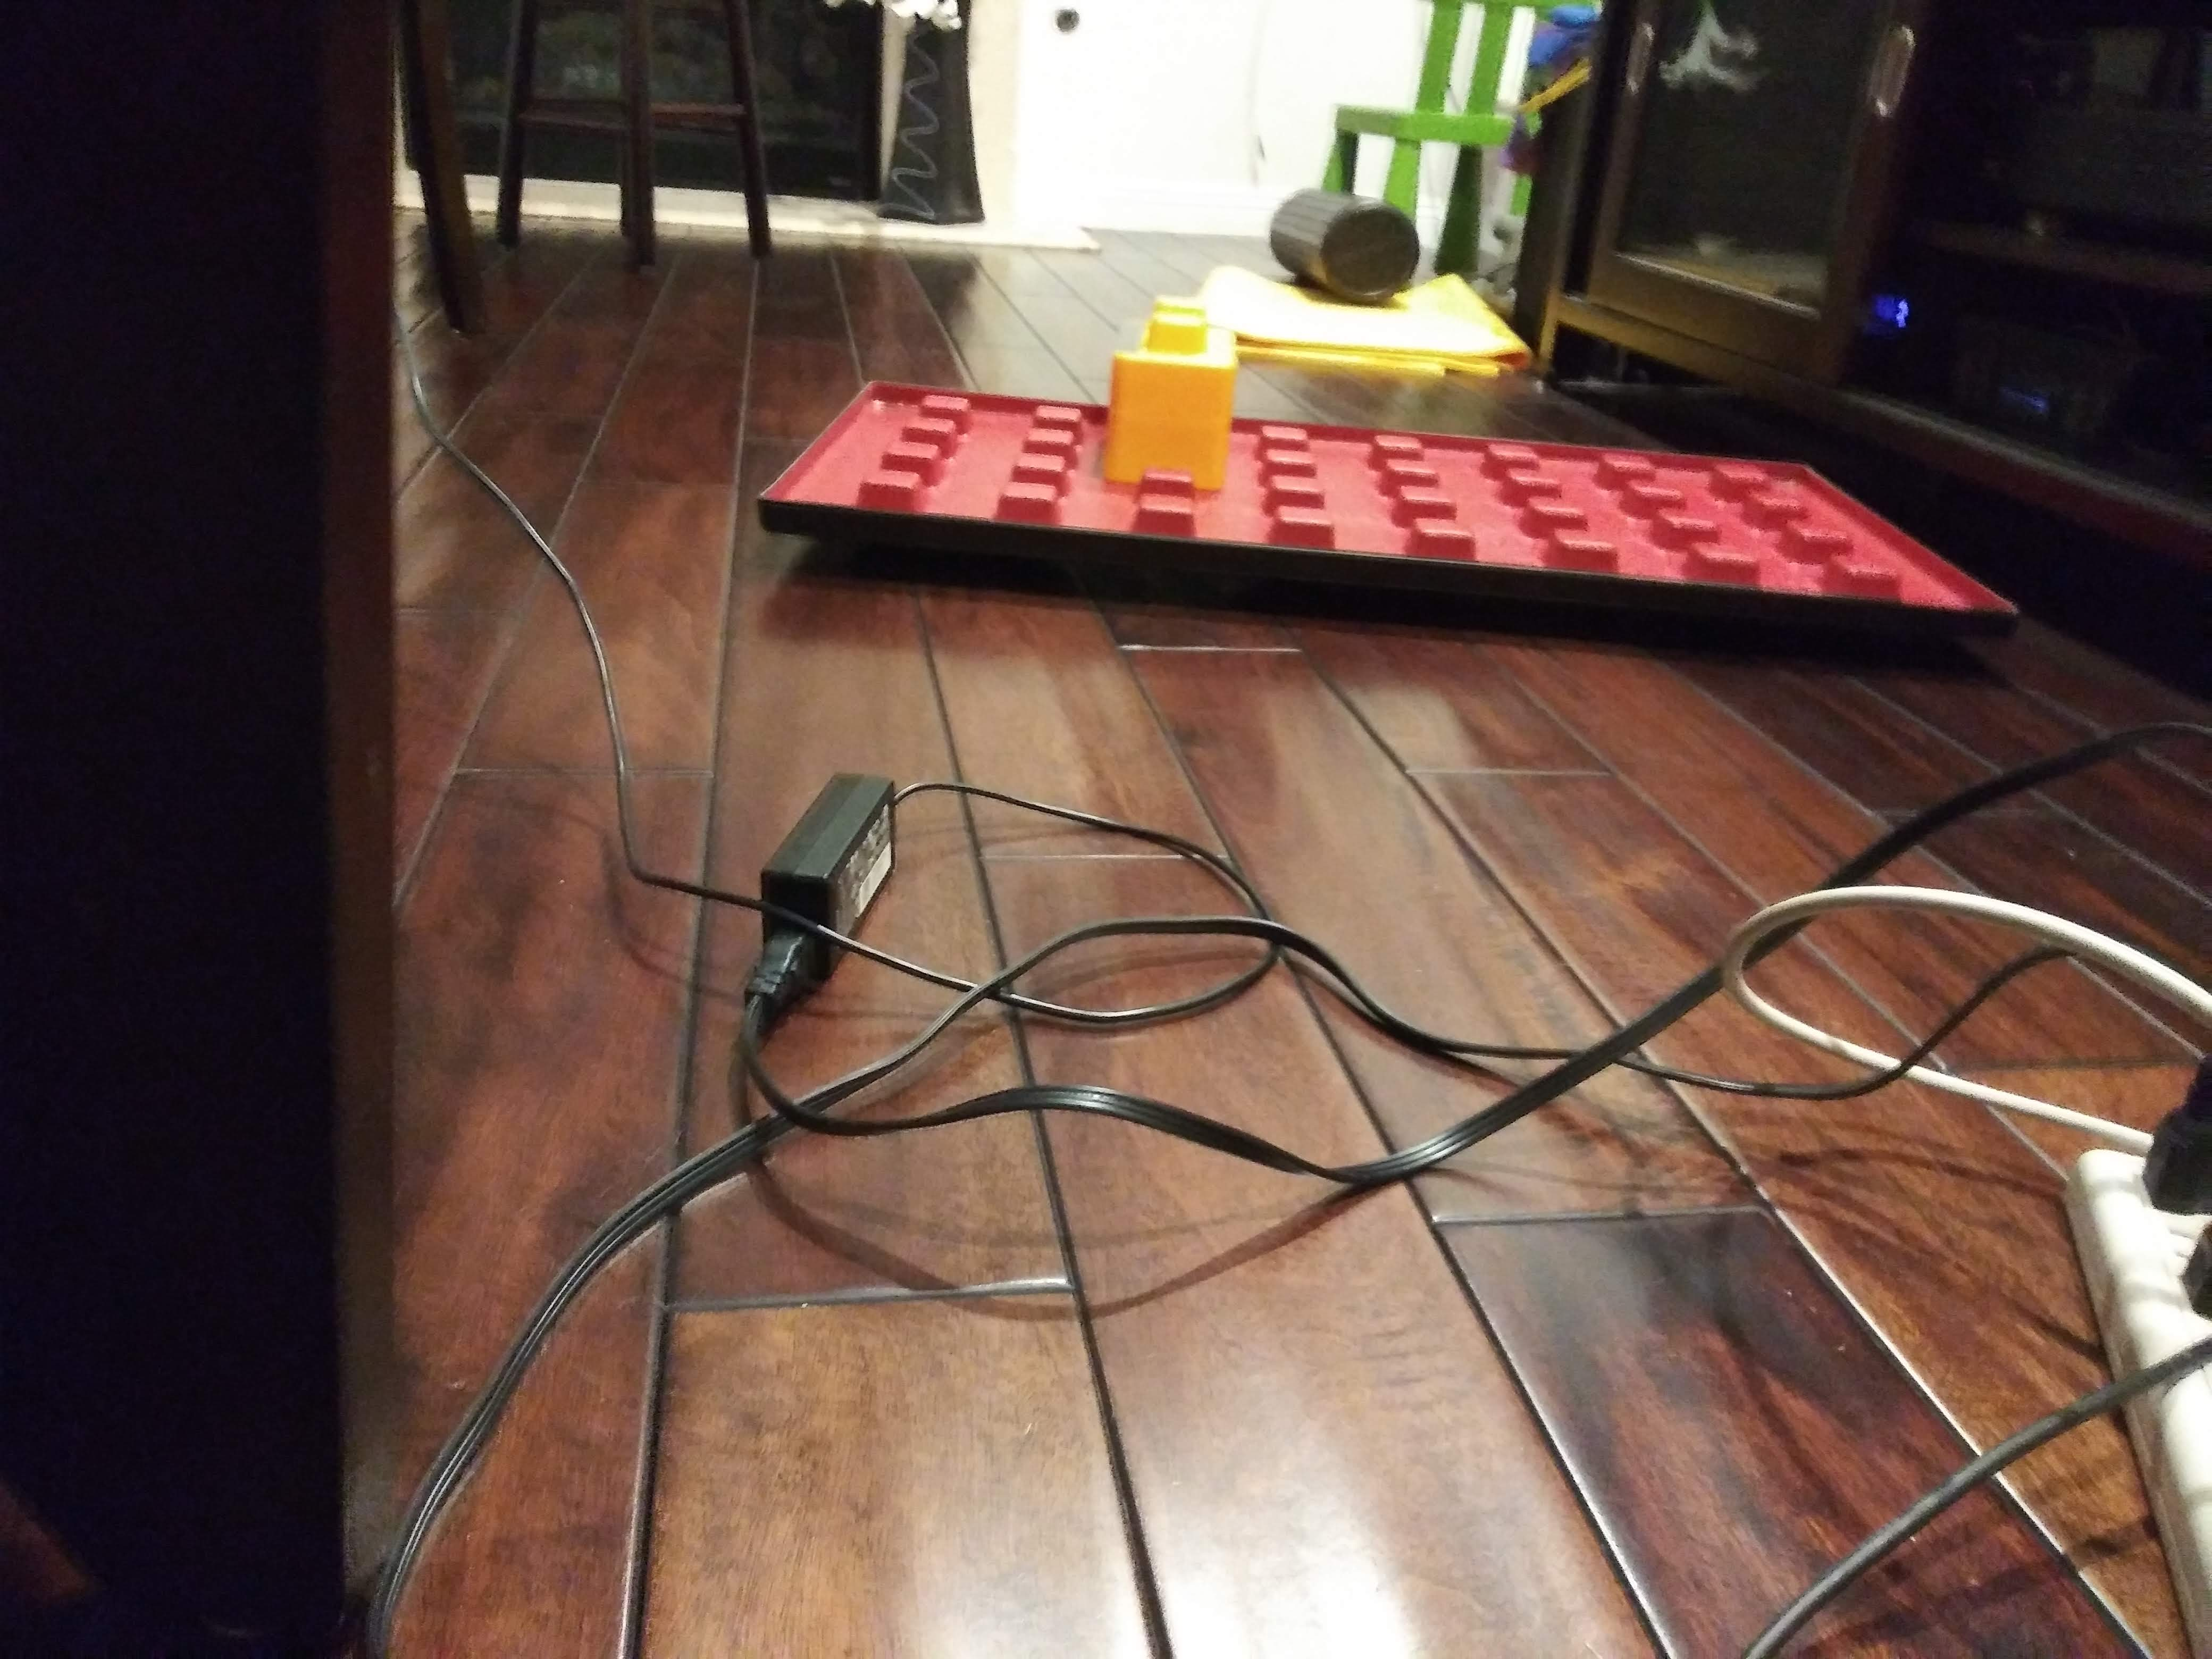red foundation: (726, 291, 2048, 744)
